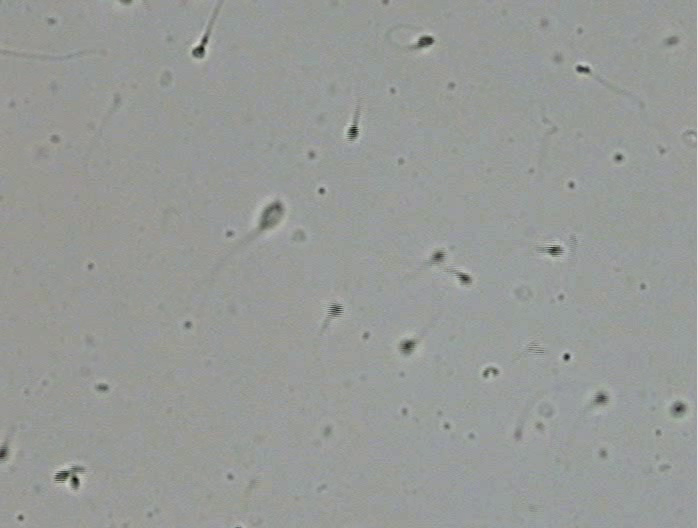S: (259, 202, 283, 230), (545, 244, 565, 257), (327, 302, 343, 318), (346, 124, 360, 142), (53, 470, 70, 483), (398, 341, 415, 354), (417, 36, 435, 48), (457, 271, 472, 285), (192, 45, 205, 59), (593, 393, 608, 405), (672, 402, 685, 415), (69, 476, 80, 491), (575, 64, 591, 74), (431, 251, 445, 262), (1, 445, 7, 461)
